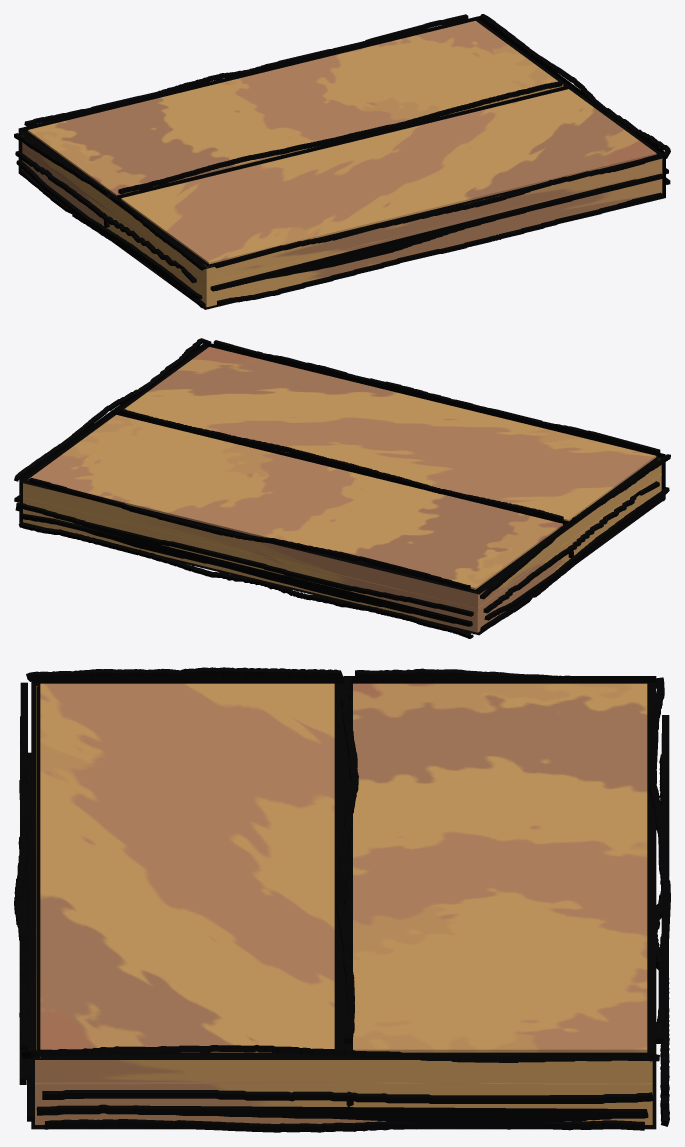
Rendered from flatbox.fbx.
The picture shows the model from 3 angles, top to bottom: view 1: azimuth 30°, elevation 25°; view 2: azimuth 150°, elevation 25°; view 3: azimuth 270°, elevation 25°; orthographic projection. The views are drawn at different scales.
Visible parts, largest first — view 1: boxtop1, boxtop2, GP_Layer, mainbox; view 2: boxtop2, boxtop1, GP_Layer, mainbox; view 3: boxtop1, boxtop2, GP_Layer, mainbox.
Part boxes in pixels (bbox=[...]): boxtop1: bbox=[112, 84, 664, 268]; boxtop2: bbox=[18, 16, 572, 200]; GP_Layer: bbox=[14, 14, 670, 308]; mainbox: bbox=[18, 19, 665, 309]; boxtop2: bbox=[19, 410, 572, 594]; boxtop1: bbox=[113, 342, 665, 526]; GP_Layer: bbox=[14, 338, 670, 638]; mainbox: bbox=[19, 345, 665, 635]; boxtop1: bbox=[31, 676, 343, 1059]; boxtop2: bbox=[344, 676, 656, 1059]; GP_Layer: bbox=[14, 667, 670, 1132]; mainbox: bbox=[31, 681, 656, 1129].
Size of the model in its own units: 126 by 13.72 by 90.8.
